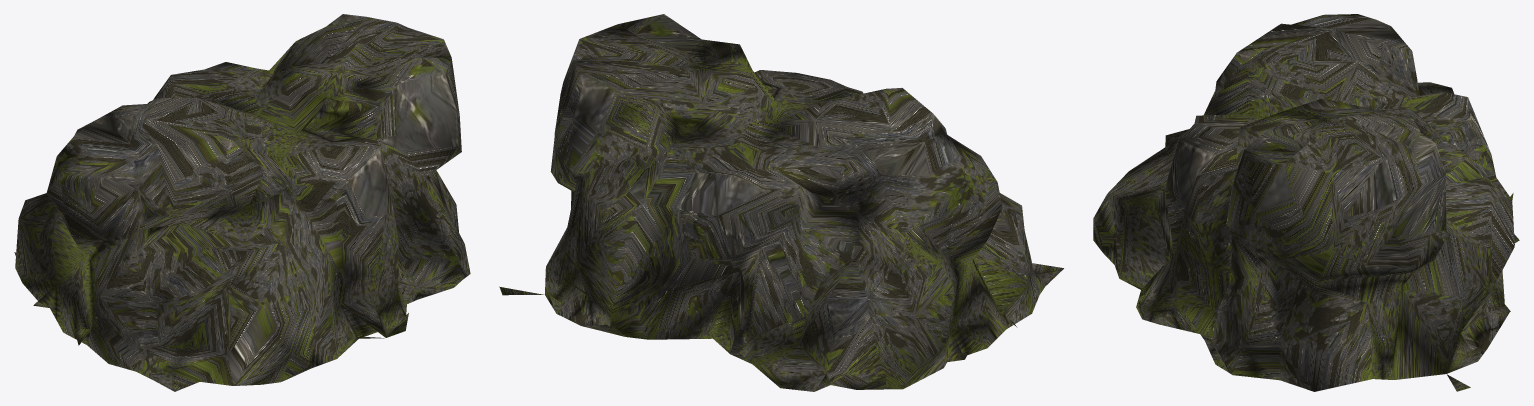
The model's file is rock_big2_far.glb.
The picture shows the model from 3 angles, left to right: view 1: azimuth 30°, elevation 25°; view 2: azimuth 150°, elevation 25°; view 3: azimuth 270°, elevation 25°; orthographic projection. The views are drawn at different scales.
Size of the model in its own units: 1.78 by 0.8496 by 1.5.
1 material, 1 textured.
